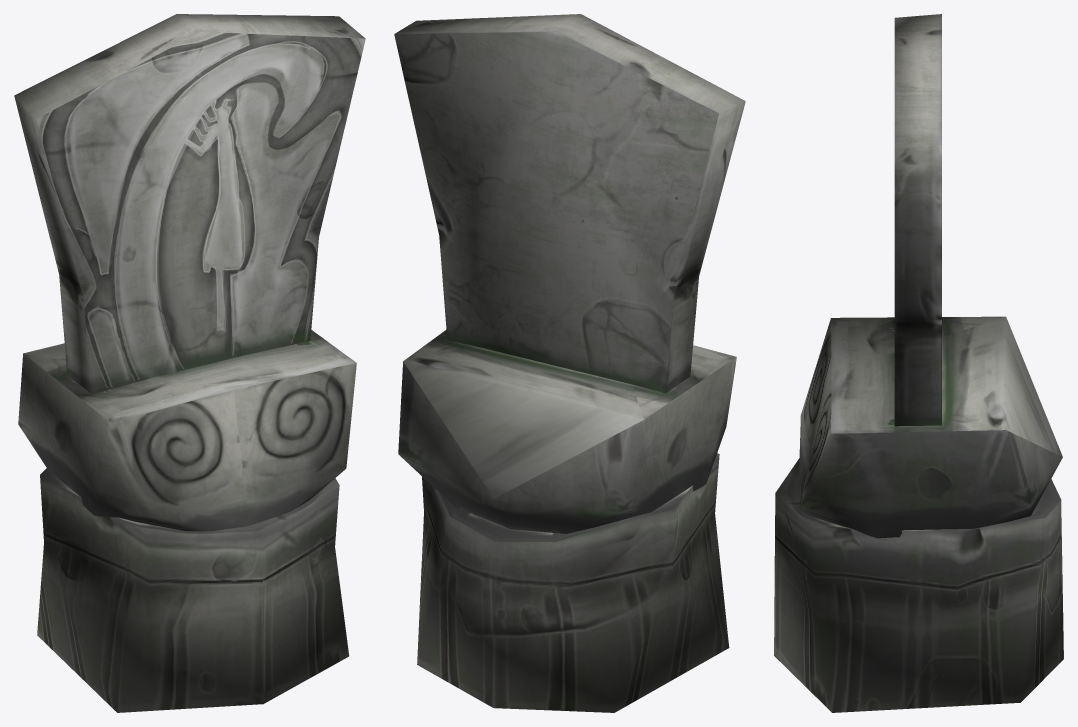
The model's file is 7_Estatua_LOD_2.fbx.
3 views of the same model, side by side, from view 1: azimuth 30°, elevation 25°; view 2: azimuth 150°, elevation 25°; view 3: azimuth 270°, elevation 25° (orthographic). The views are drawn at different scales.
Parts seen in each view (by area): view 1: 7_Estatua_LOD_2; view 2: 7_Estatua_LOD_2; view 3: 7_Estatua_LOD_2.
Part boxes in pixels (<box>): 7_Estatua_LOD_2: <box>14,14,365,712</box>; 7_Estatua_LOD_2: <box>394,14,745,712</box>; 7_Estatua_LOD_2: <box>774,14,1063,712</box>.
Bounding box in the file's own units: 148 × 270 × 117.
